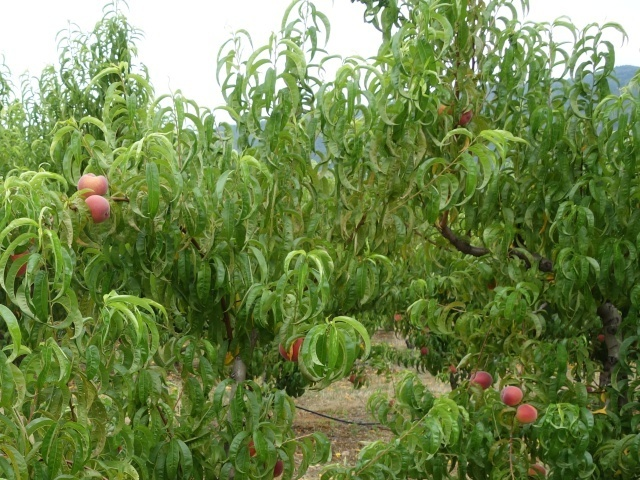peach: (74, 170, 112, 203), (277, 332, 312, 365), (83, 192, 117, 225), (466, 366, 494, 395), (497, 383, 526, 410), (512, 401, 539, 427), (523, 460, 549, 480), (454, 105, 475, 128), (267, 455, 285, 478)
